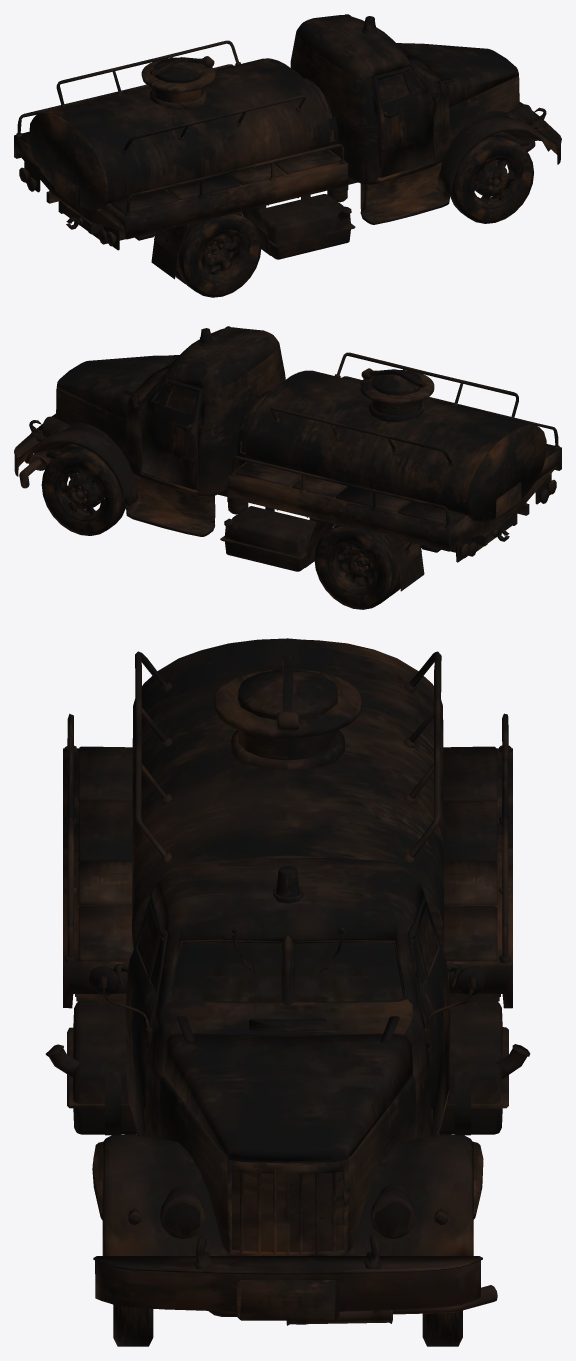
File: fueltruck_burnt.glb
3 views of the same model, one above another, from view 1: azimuth 30°, elevation 25°; view 2: azimuth 150°, elevation 25°; view 3: azimuth 270°, elevation 25° (orthographic). The views are drawn at different scales.
Visible parts, largest first — view 1: fueltruck; view 2: fueltruck; view 3: fueltruck.
Boxes of the visible parts, left/top/right/bottom form: fueltruck: left=14, top=14, right=561, bottom=297; fueltruck: left=14, top=326, right=561, bottom=609; fueltruck: left=45, top=638, right=530, bottom=1346.
Size of the model in its own units: 5.8 by 2.4 by 2.64.
2 materials, 2 textured.
